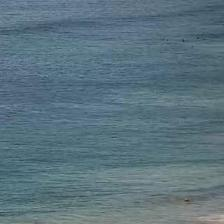surfer: (182, 39, 186, 43), (196, 36, 200, 40)
